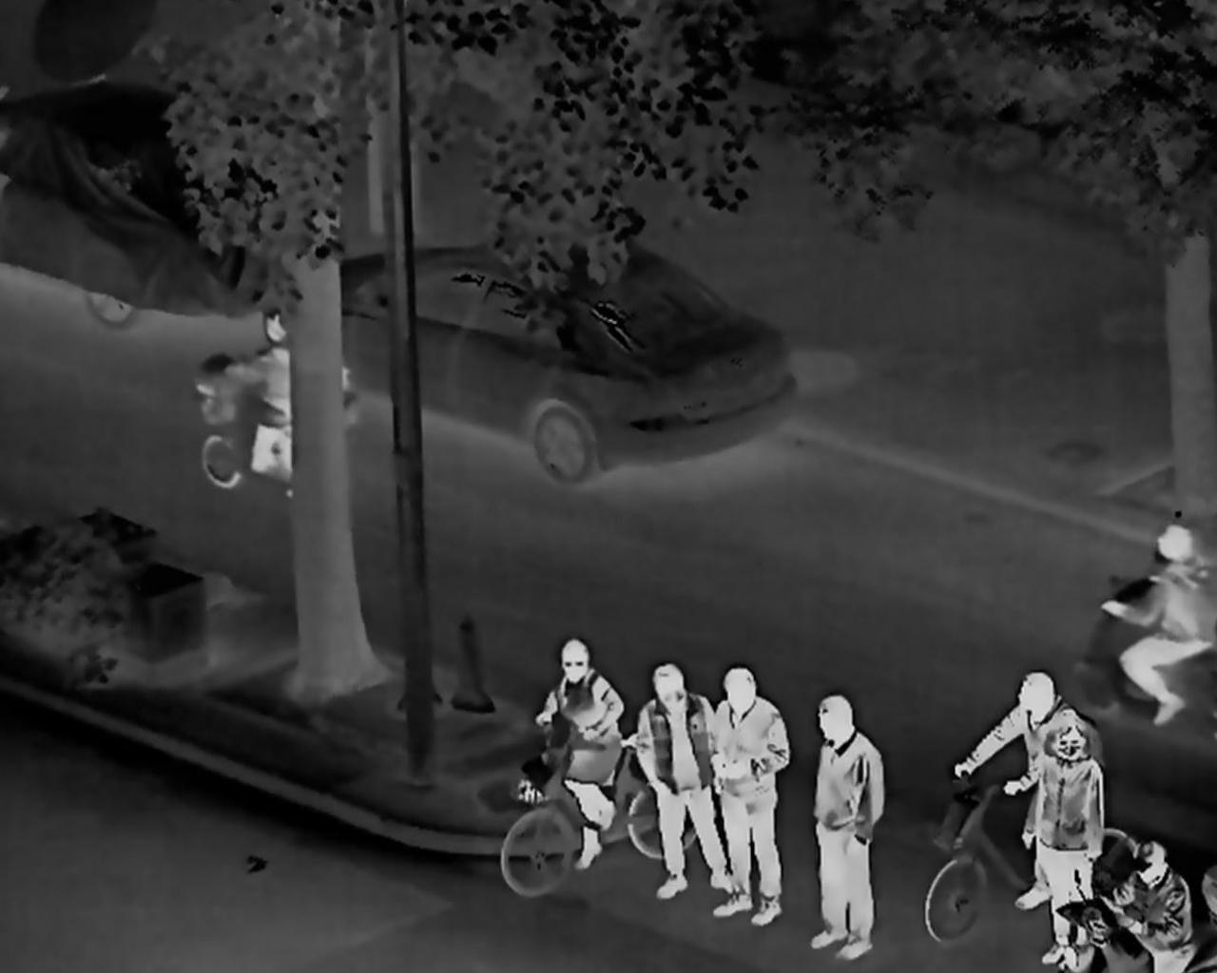person: (954, 672, 1101, 915), (633, 666, 734, 899), (1099, 524, 1217, 723), (805, 693, 884, 959), (538, 638, 626, 873), (223, 308, 336, 481), (711, 671, 786, 925), (1027, 718, 1103, 960), (1105, 835, 1190, 973)
